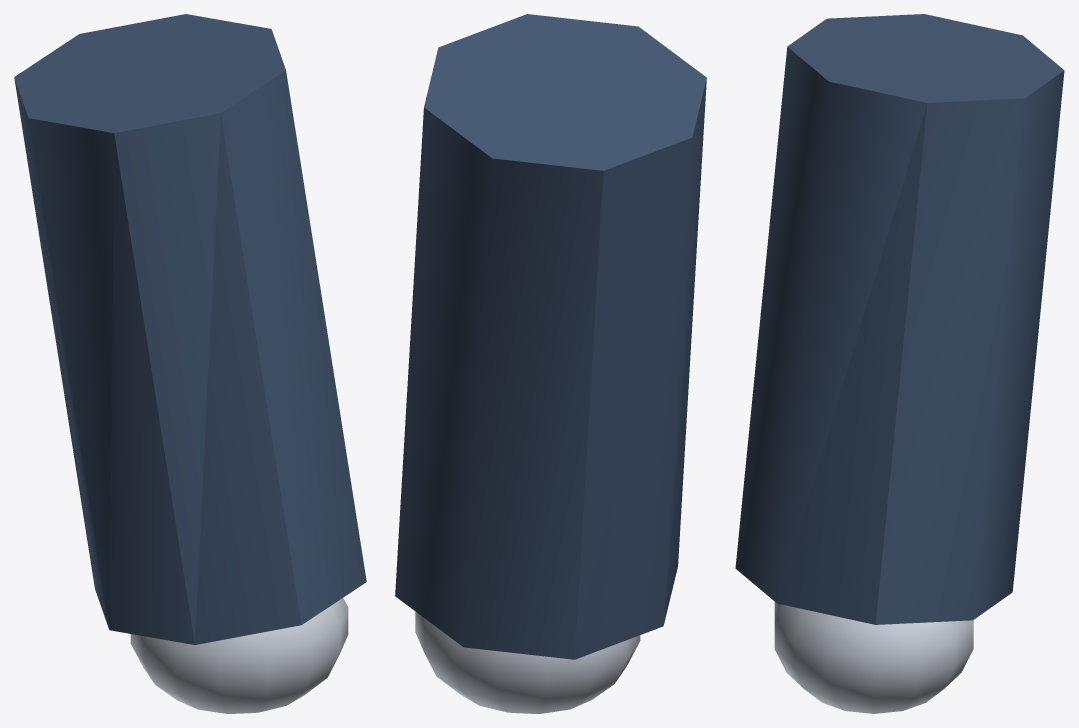
The model's file is RightArm.glb.
The picture shows the model from 3 angles, left to right: view 1: azimuth 30°, elevation 25°; view 2: azimuth 150°, elevation 25°; view 3: azimuth 270°, elevation 25°; orthographic projection. The views are drawn at different scales.
Visible parts, largest first — view 1: plate, gauntlet; view 2: plate, gauntlet; view 3: plate, gauntlet.
Part boxes in pixels (<box>): plate: <box>14,14,366,644</box>; gauntlet: <box>130,598,348,713</box>; plate: <box>395,14,706,659</box>; gauntlet: <box>415,611,640,713</box>; plate: <box>735,14,1064,624</box>; gauntlet: <box>774,602,973,713</box>.
Bounding box in the file's own units: 1.04 × 2.15 × 1.02.
